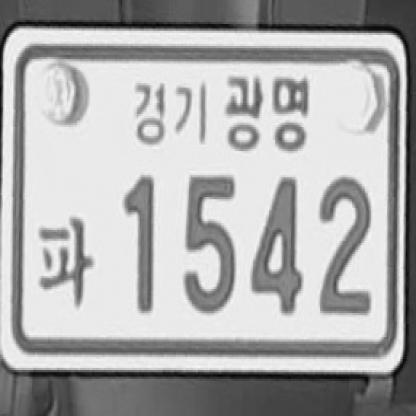bnum: (0, 18, 409, 379)
